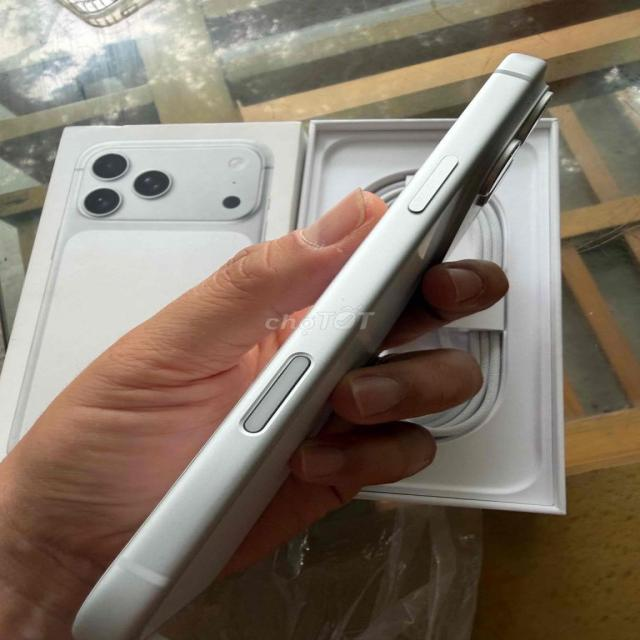gen_17: (74, 54, 551, 639), (75, 55, 550, 639)
